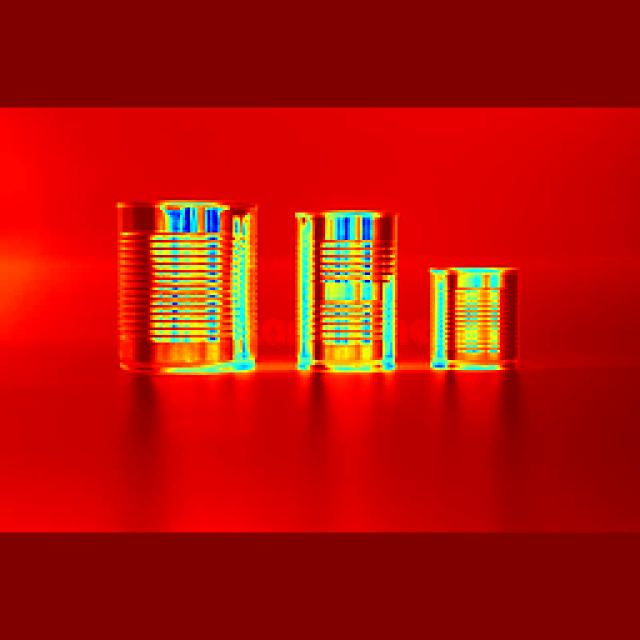Aluminium Food Cans: (101, 191, 267, 375), (298, 206, 398, 392), (423, 260, 542, 378)
